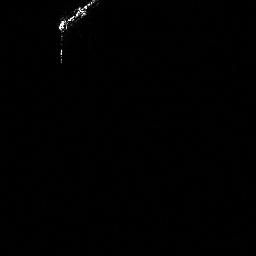ship: (55, 1, 100, 45)
